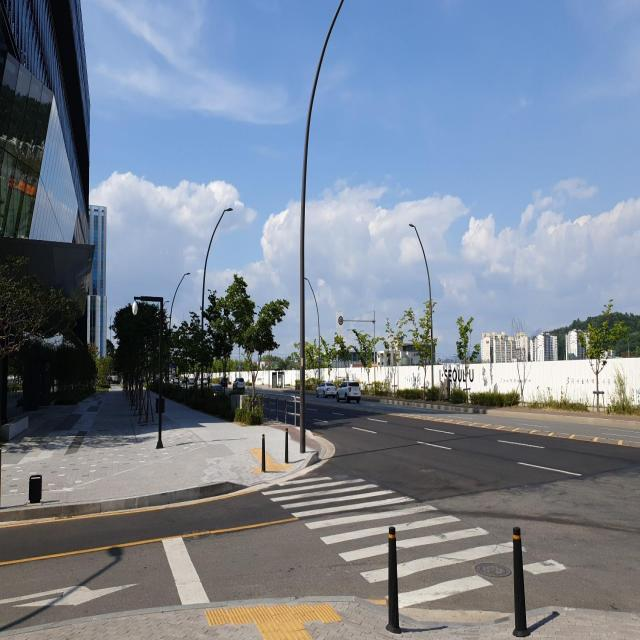횡단보도: (260, 476, 568, 611)
